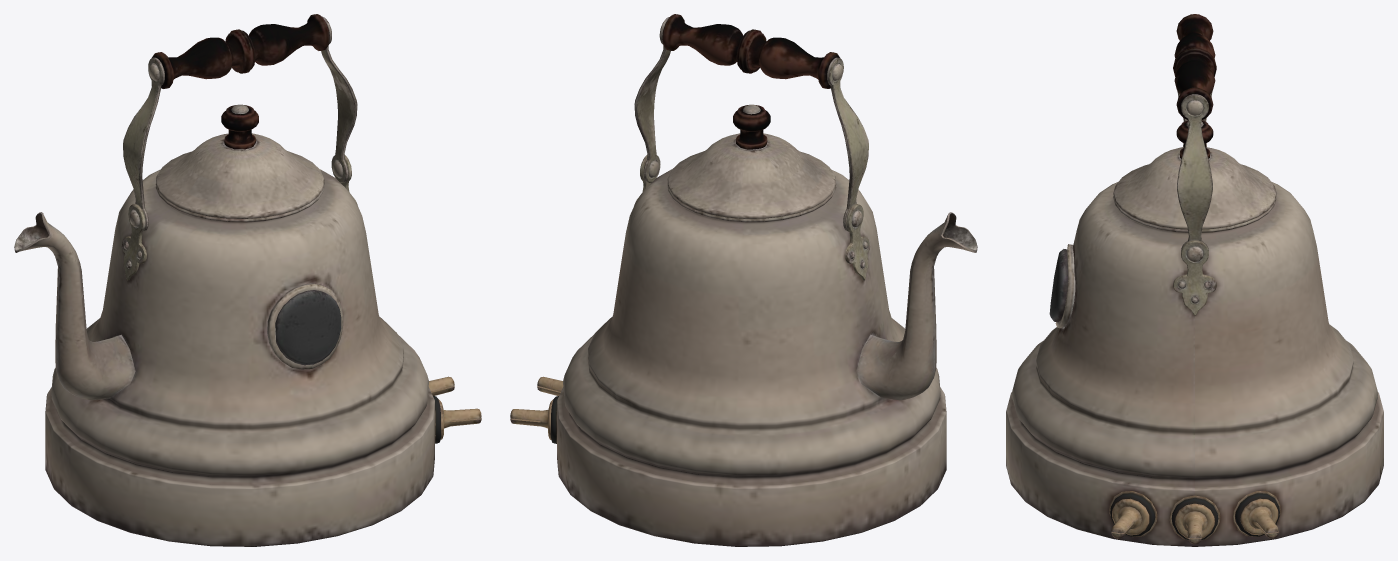
Rendered from vintage_electric_kettle.glb.
3 views of the same model, side by side, from view 1: azimuth 30°, elevation 25°; view 2: azimuth 150°, elevation 25°; view 3: azimuth 270°, elevation 25° (orthographic). The views are drawn at different scales.
Visible parts, largest first — view 1: vintage_electric_kettle; view 2: vintage_electric_kettle; view 3: vintage_electric_kettle.
Boxes of the visible parts, x1=… form: vintage_electric_kettle: x1=14, y1=14, x2=481, y2=546; vintage_electric_kettle: x1=510, y1=14, x2=977, y2=546; vintage_electric_kettle: x1=1006, y1=14, x2=1383, y2=546.
Bounding box in the file's own units: 0.3209 × 0.3047 × 0.2486.
2 materials, 2 textured.
